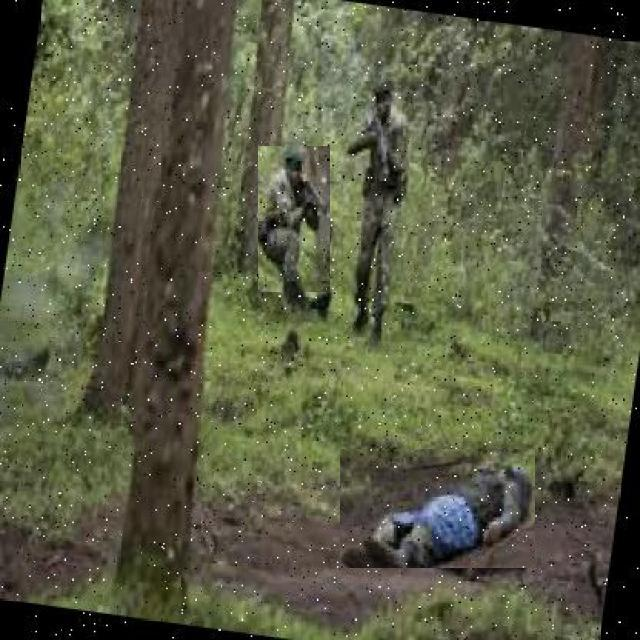poacher: (343, 82, 445, 316), (340, 449, 535, 568), (258, 146, 330, 292)
